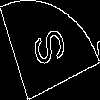S: (24, 25, 68, 73)
